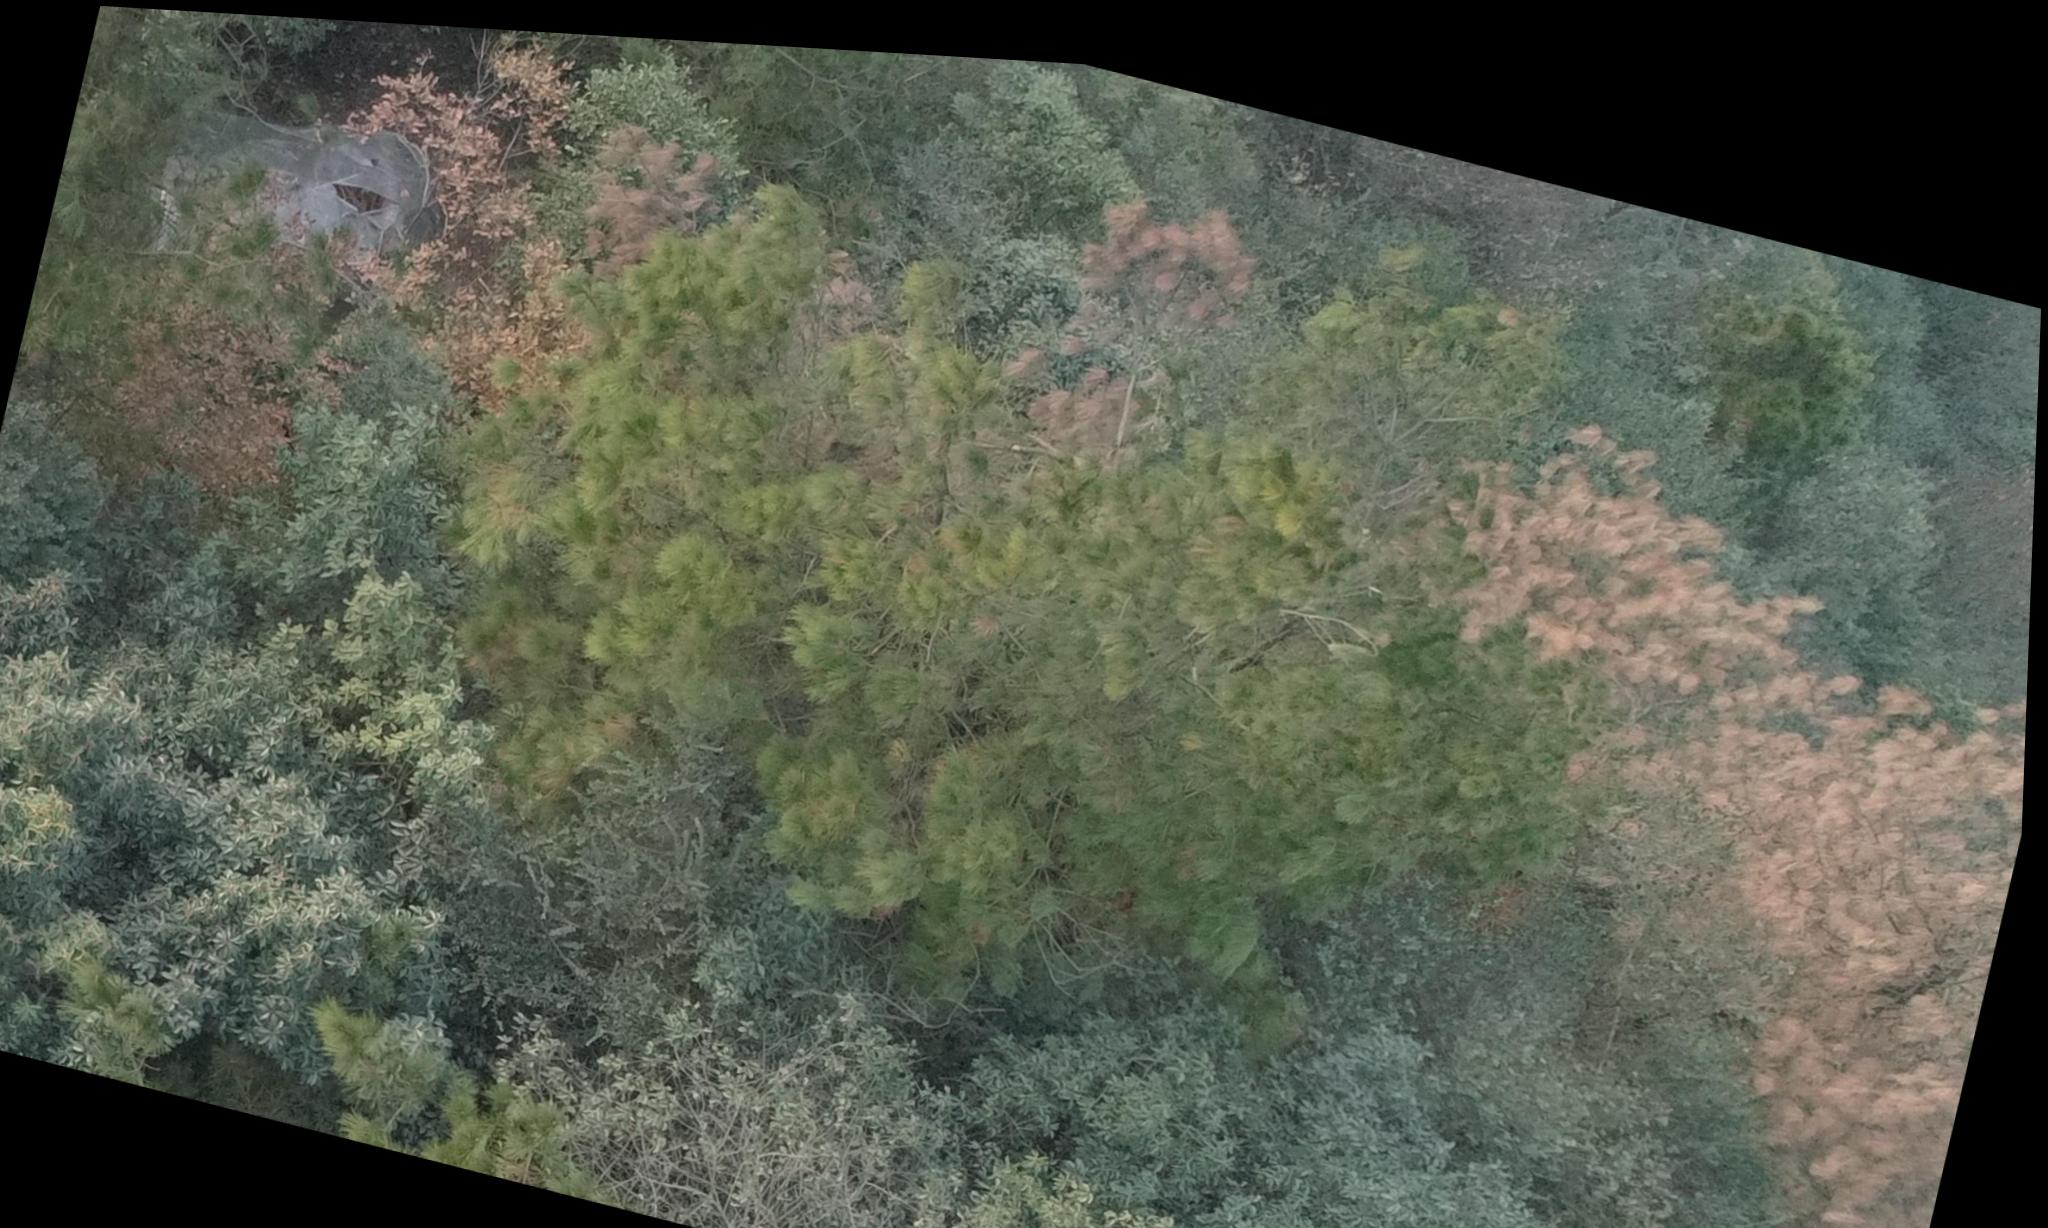heavy: (1317, 377, 2039, 1228), (382, 151, 959, 868)
